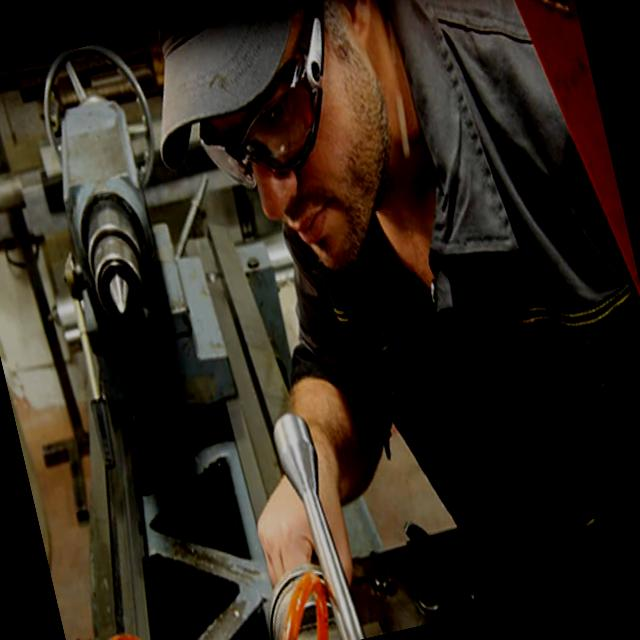goggles: (178, 15, 376, 213)
helmet: (123, 0, 394, 174)
no-vest: (379, 0, 640, 589)
